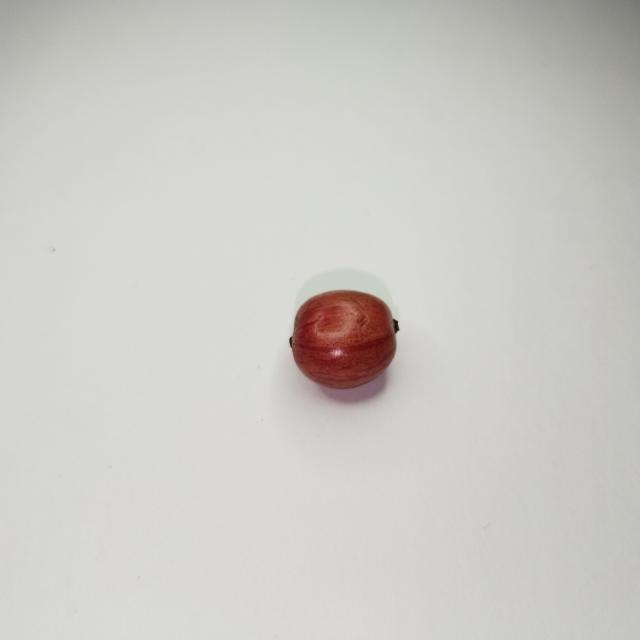Sano: (289, 288, 398, 391)
